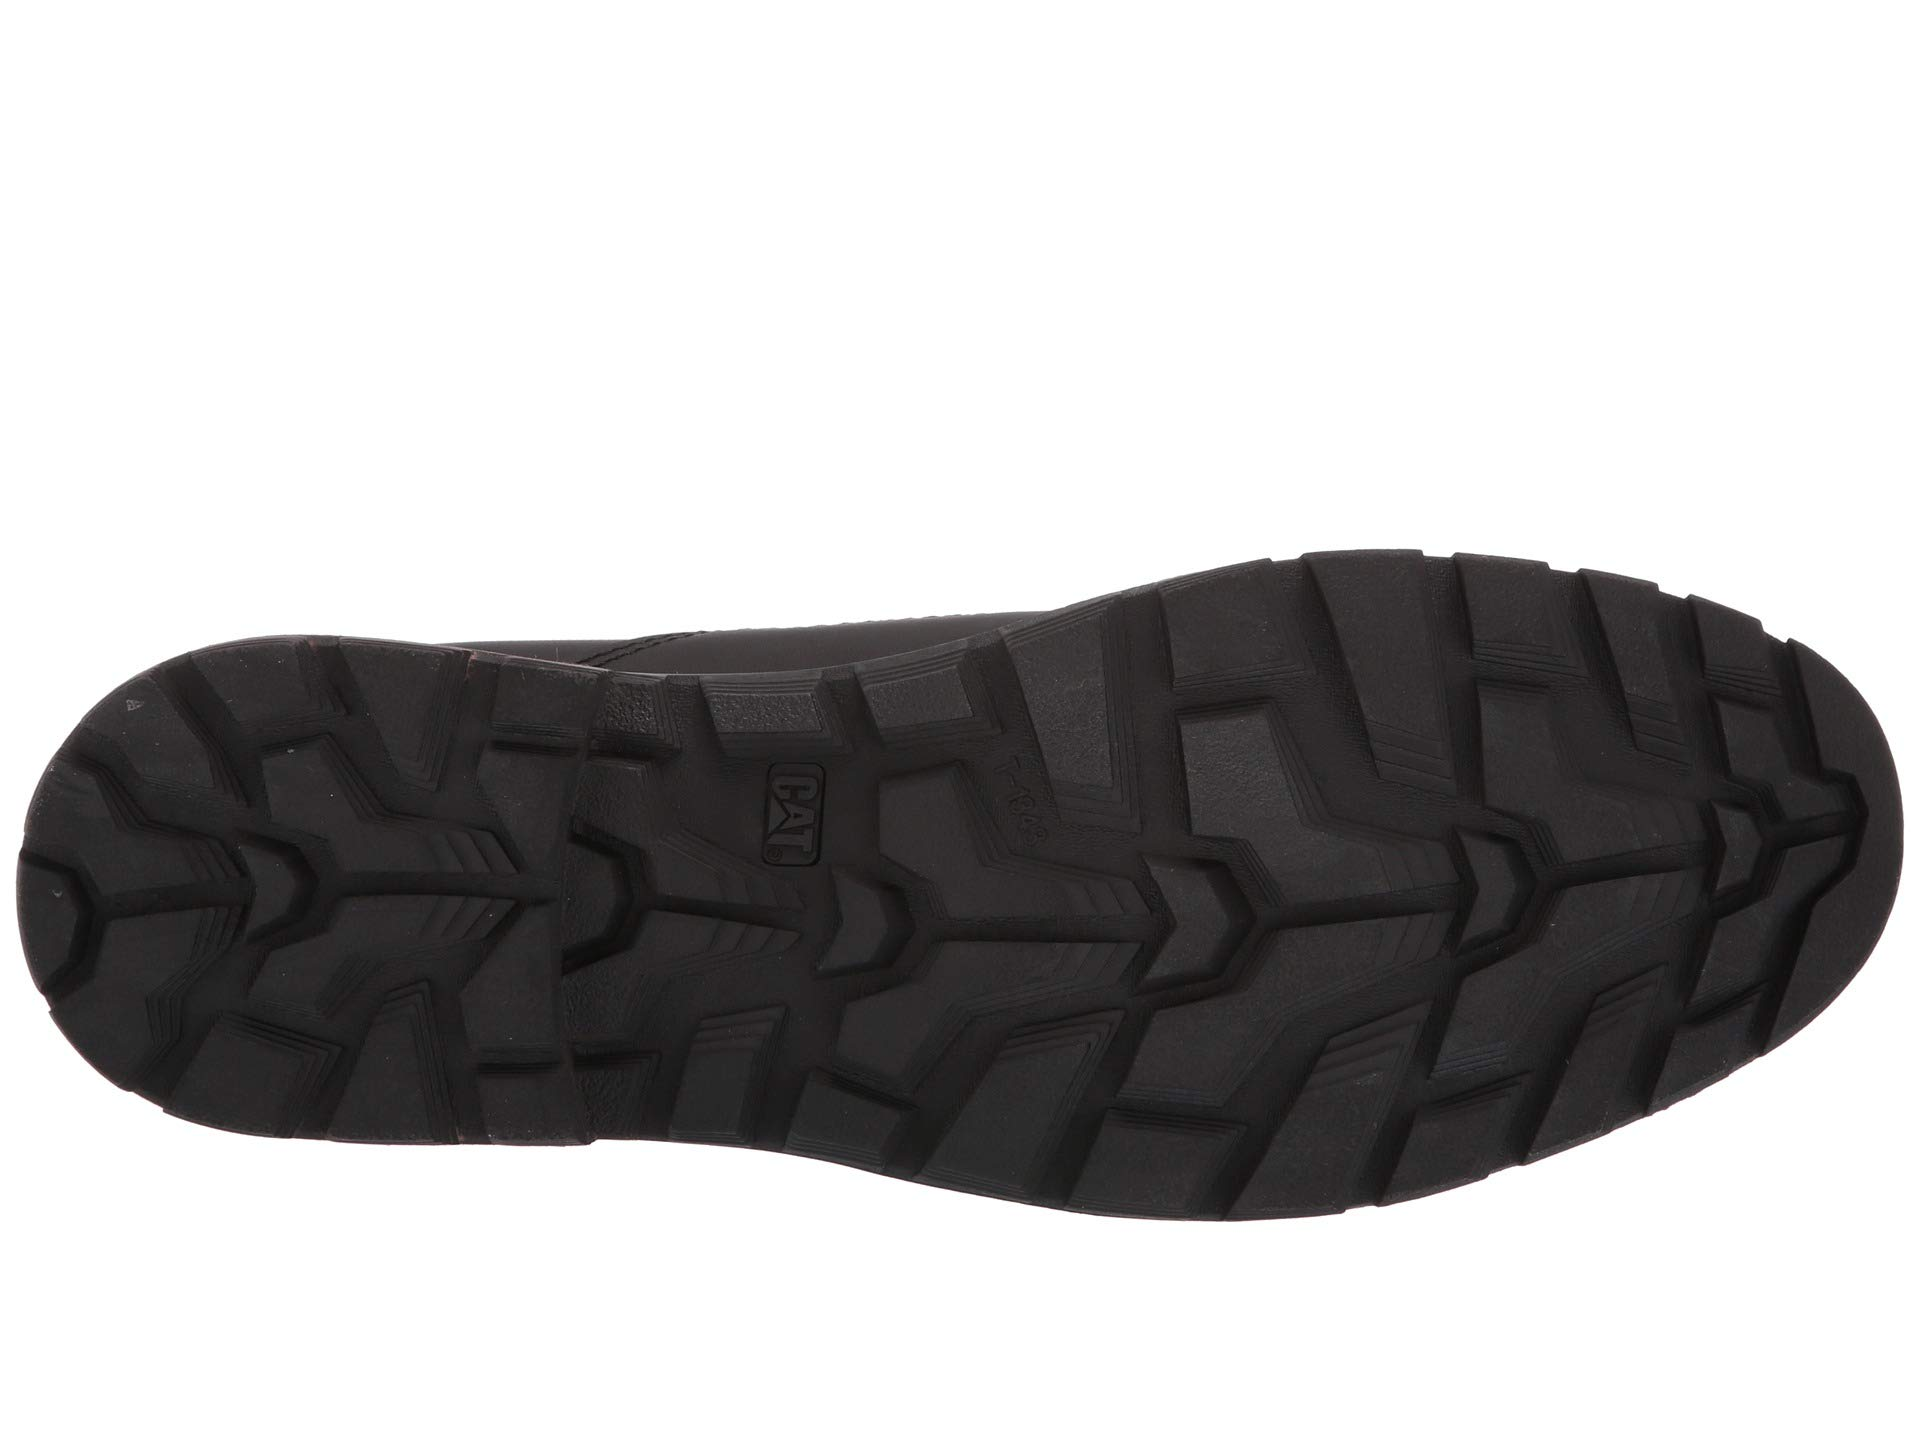quad: (999, 594, 1160, 833), (330, 957, 469, 1150), (160, 992, 331, 1134), (1383, 1060, 1554, 1195), (1054, 1115, 1273, 1216), (1429, 552, 1593, 681), (351, 628, 470, 793), (187, 632, 373, 737), (1645, 980, 1769, 1113), (671, 1001, 785, 1141), (686, 669, 883, 749), (1680, 594, 1796, 717), (754, 756, 835, 879)
text: (754, 756, 835, 879)
triangle: (754, 756, 835, 879)
